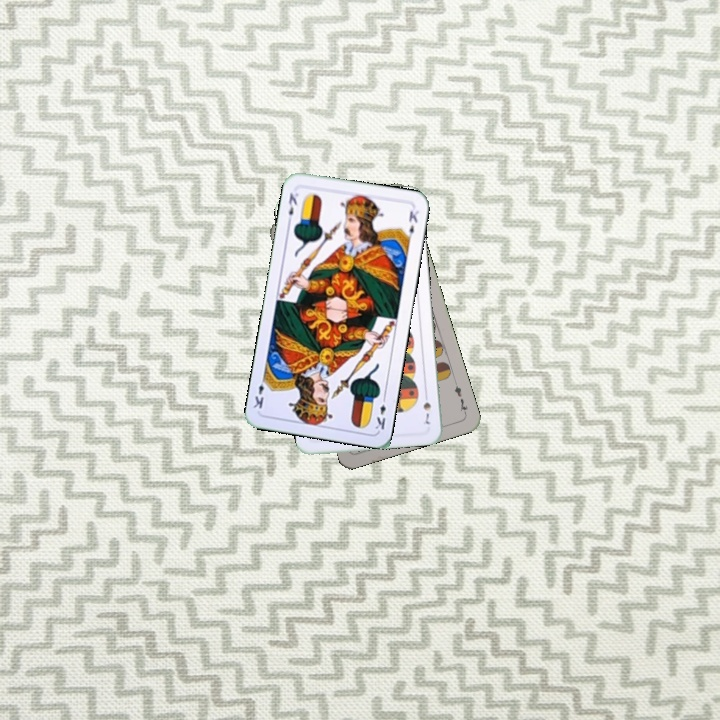E7: (450, 377, 470, 417)
EK: (371, 392, 389, 432), (284, 189, 301, 226)
S7: (419, 388, 434, 428)
